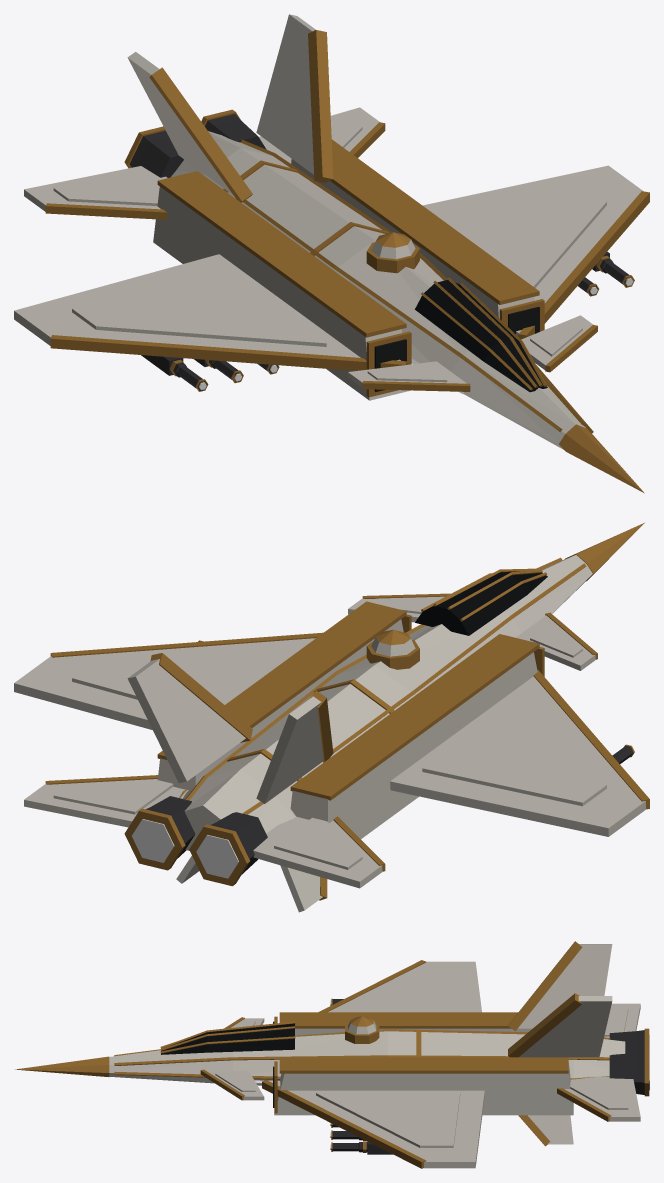
Rendered from fighter_t3.glb.
3 views of the same model, one above another, from view 1: azimuth 30°, elevation 25°; view 2: azimuth 150°, elevation 25°; view 3: azimuth 270°, elevation 25° (orthographic). The views are drawn at different scales.
Parts seen in each view (by area): view 1: body; view 2: body; view 3: body.
Part boxes in pixels (<box>): body: <box>14,14,649,493</box>; body: <box>14,522,649,912</box>; body: <box>15,941,649,1168</box>.
Bounding box in the file's own units: 11.59 × 4.26 × 15.41.
